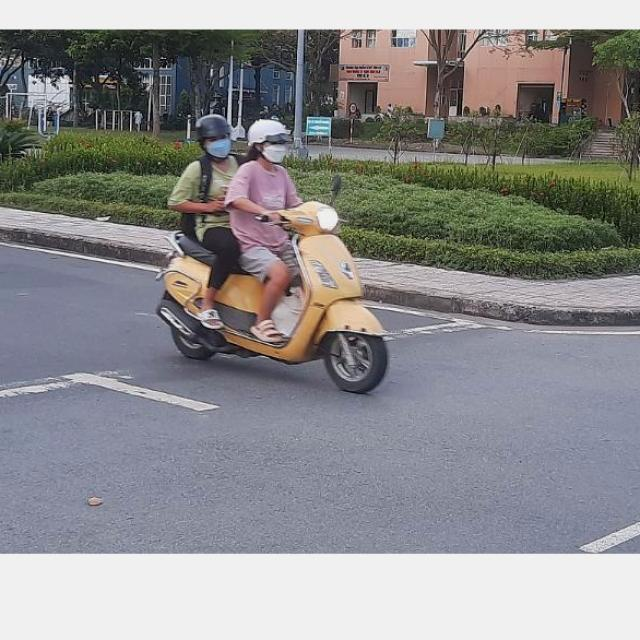Helmet: (248, 119, 294, 165), (196, 114, 232, 160)
